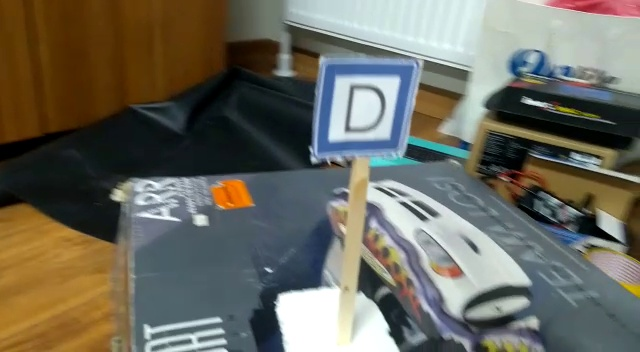durak: (320, 62, 397, 154)
